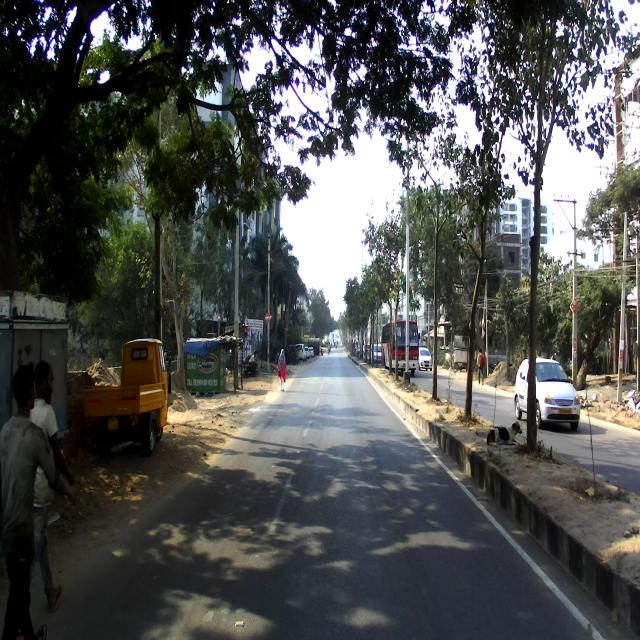auto ahead at: (87, 328, 179, 474)
person ahead at: (2, 356, 64, 613)
